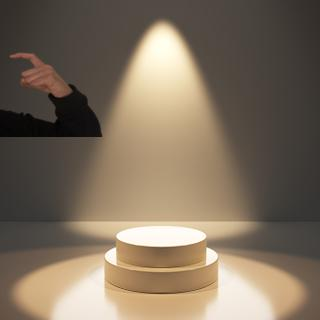WHY: (6, 48, 71, 97)
